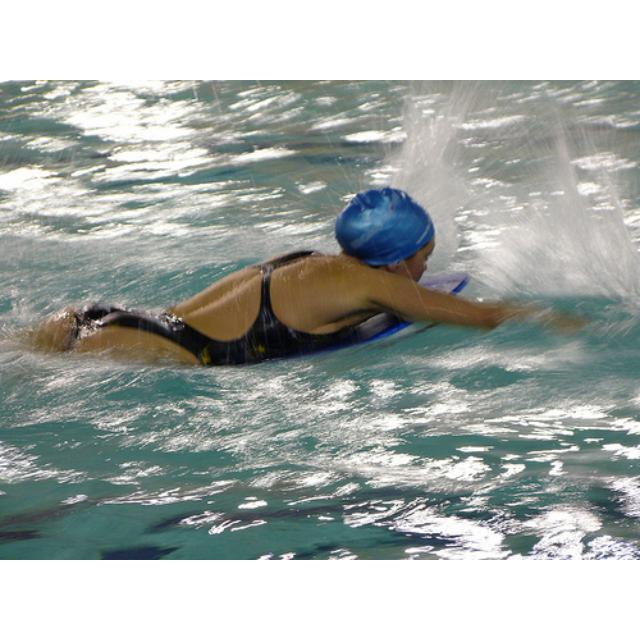human: (21, 186, 550, 366)
